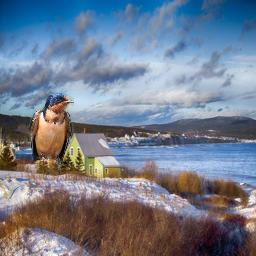Swallow: (29, 92, 74, 170)
